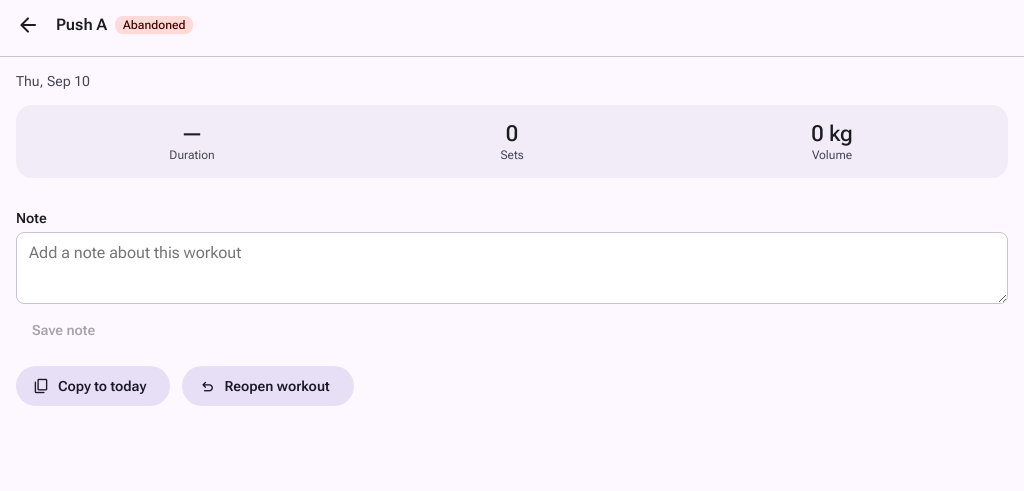
Test: WorkoutDetailScreen › surfaces an error banner instead of navigating when another workout is already open
The image size is (1024, 491).
Step 1. Click the text "Reopen workout" → (277, 386), box x1=224 y1=376 x2=330 y2=396
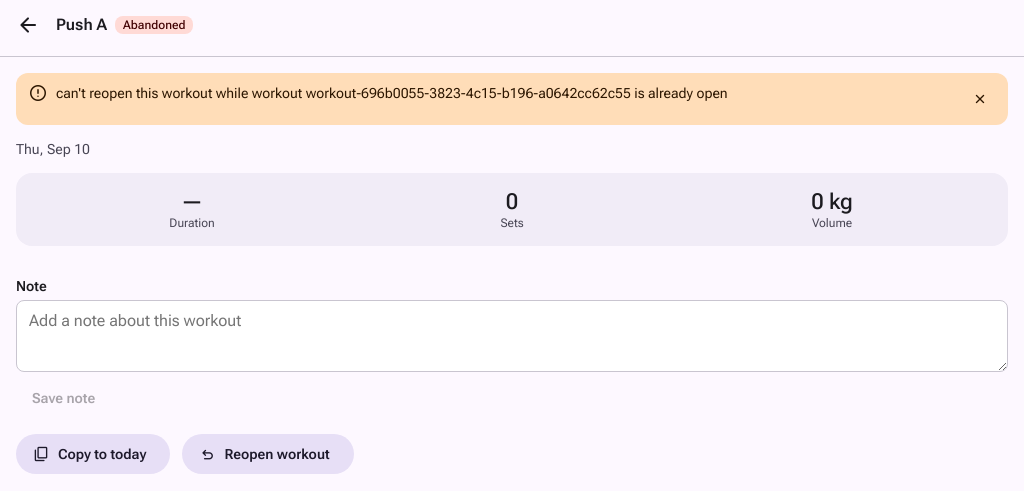
Now the text "already open" is shown, box x1=56 y1=85 x2=728 y2=101
